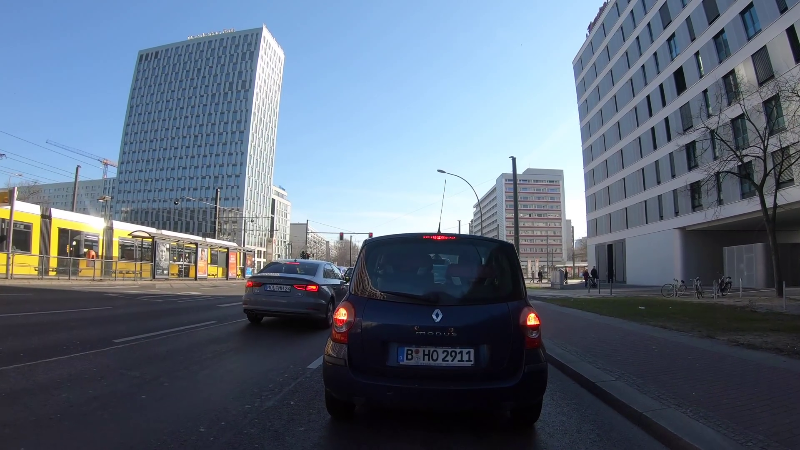Plate: (393, 344, 479, 371), (261, 281, 292, 294)
